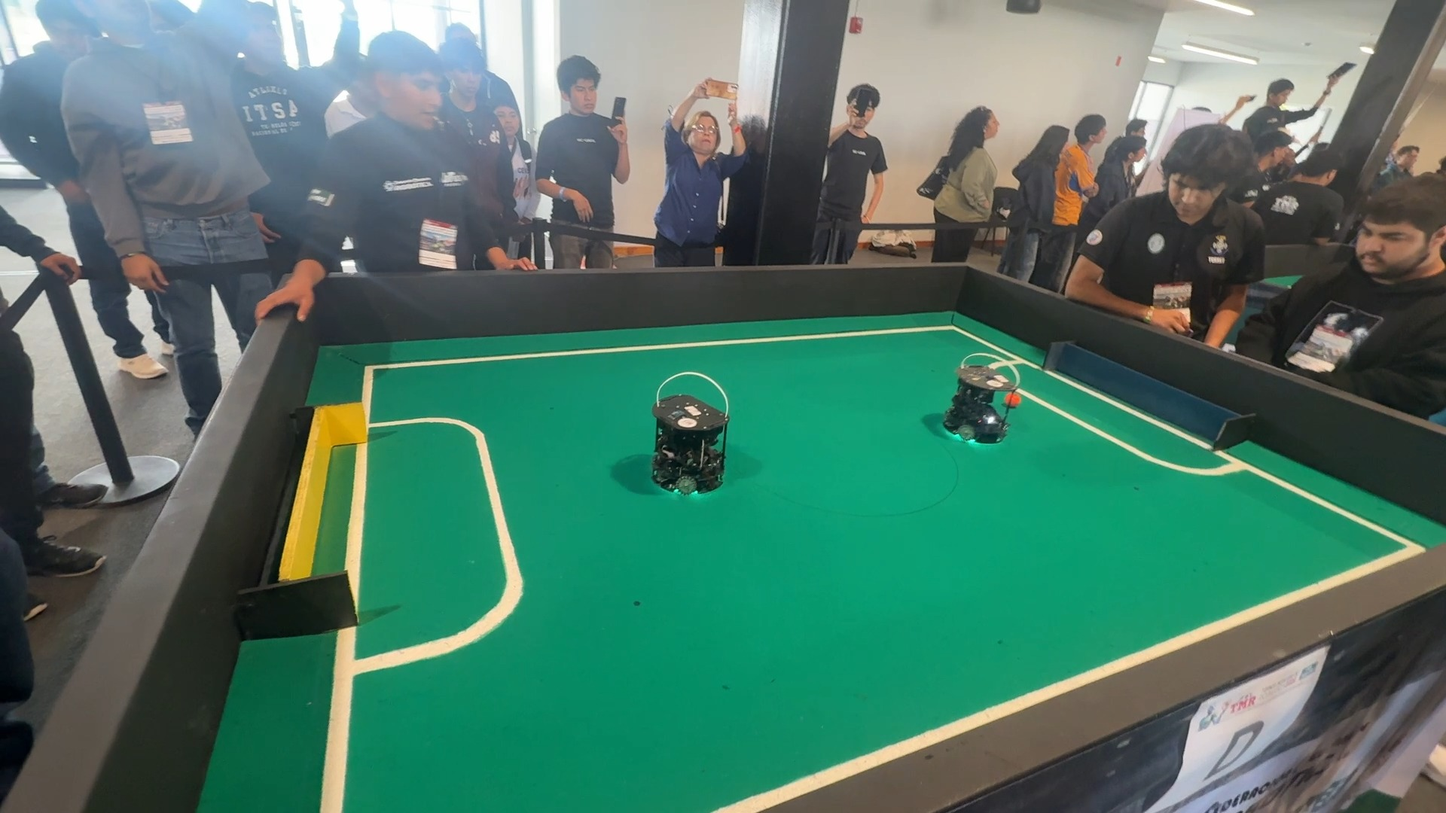Robot: (619, 371, 746, 510), (914, 346, 1029, 461)
